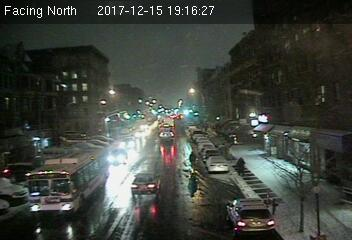bus: (25, 148, 107, 219)
car: (227, 198, 274, 233), (131, 171, 161, 196), (204, 156, 230, 172)
pedestrian: (235, 157, 245, 175)
